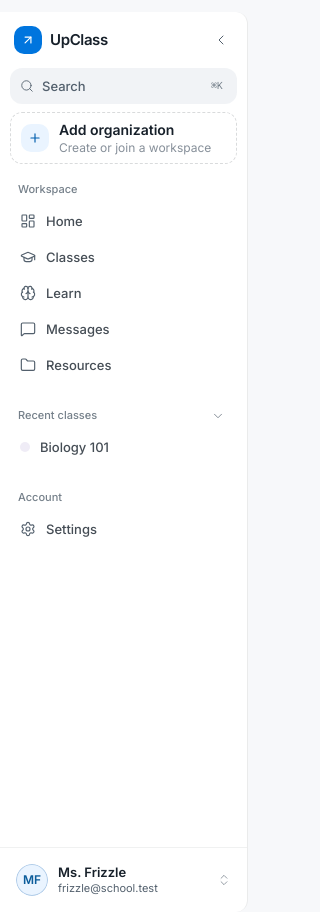
it: sidebar collapse › collapses recent classes from the section heading
Check: the link "Biology 101" is shown, box [20,439,109,455]
Step 1. Click the button "Recent classes" → (122, 416), box [10,402,233,430]
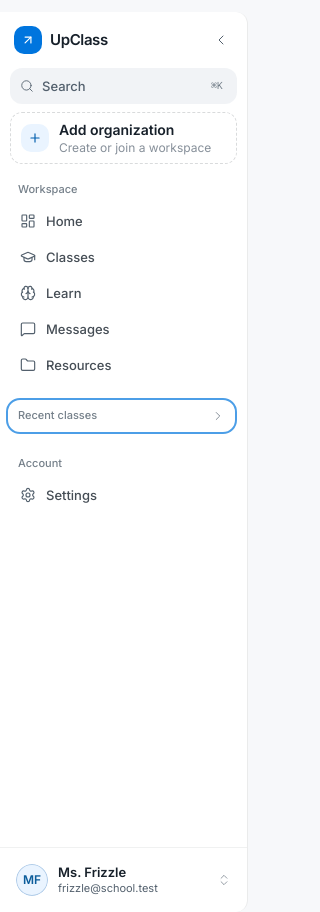
Check: the link "Biology 101" is gone
